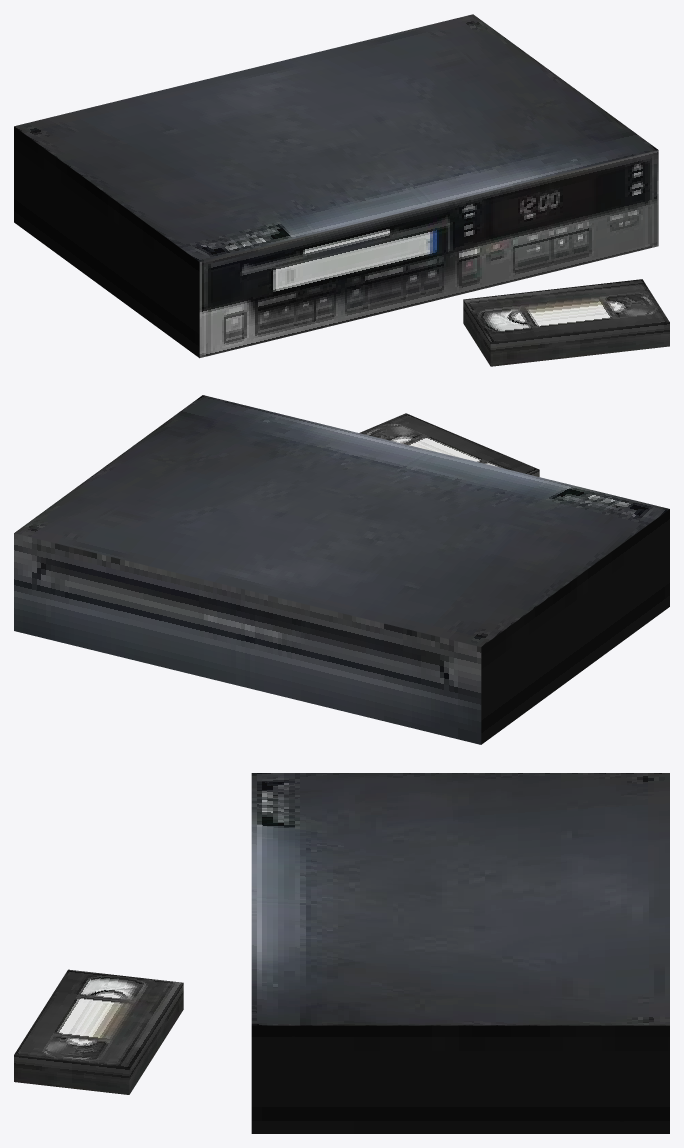
Rendered from psx_vhs_player__tape.glb.
3 views of the same model, one above another, from view 1: azimuth 30°, elevation 25°; view 2: azimuth 150°, elevation 25°; view 3: azimuth 270°, elevation 25° (orthographic). The views are drawn at different scales.
Visible parts, largest first — view 1: VHSPlayer, VHSTape; view 2: VHSPlayer, VHSTape; view 3: VHSPlayer, VHSTape.
Boxes of the visible parts, x1,y1,x2,y2 form: VHSPlayer: (14,14,658,358); VHSTape: (463,279,669,366); VHSPlayer: (14,395,669,744); VHSTape: (359,413,539,476); VHSPlayer: (251,773,669,1133); VHSTape: (14,969,183,1094).
Size of the model in its own units: 0.66 by 0.132 by 0.7246.
Materials: 1 (1 with a texture image).
